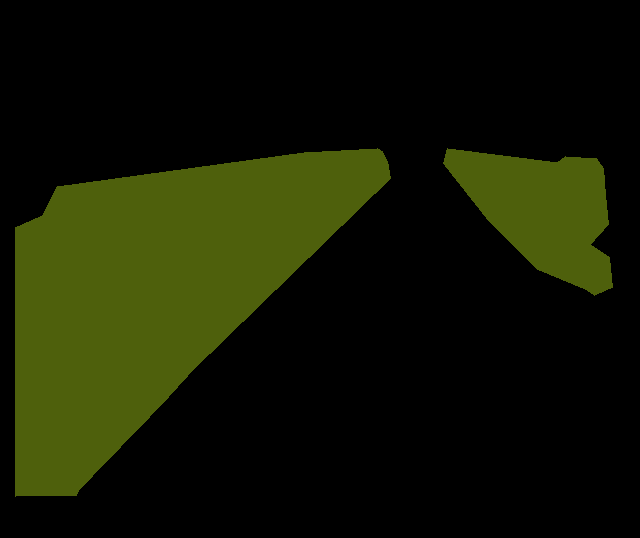Train: (15, 148, 391, 497), (443, 148, 613, 296)
